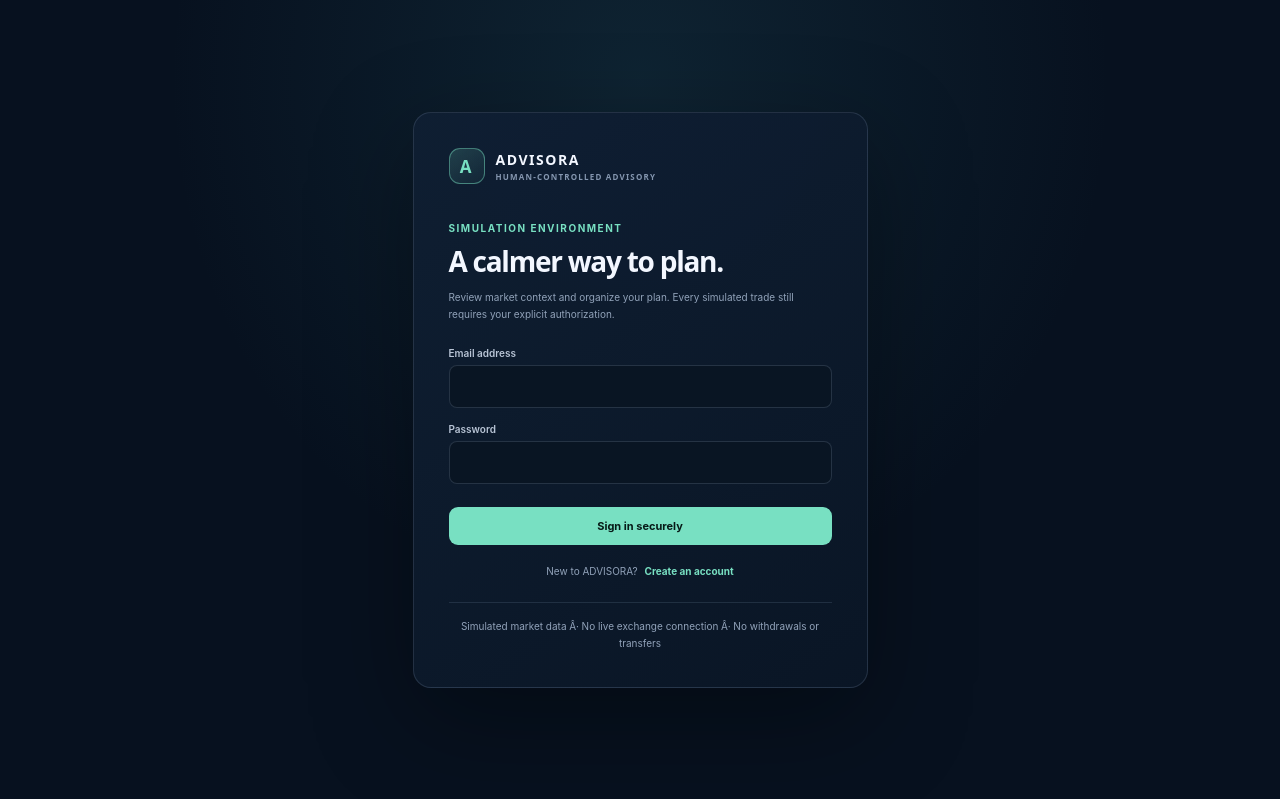
ADVISORA application shell › loads the real-data dashboard panels after authentication
Type "demo@example.test" into the field labelled "Email address" at (640, 386), box [448,365,832,408]
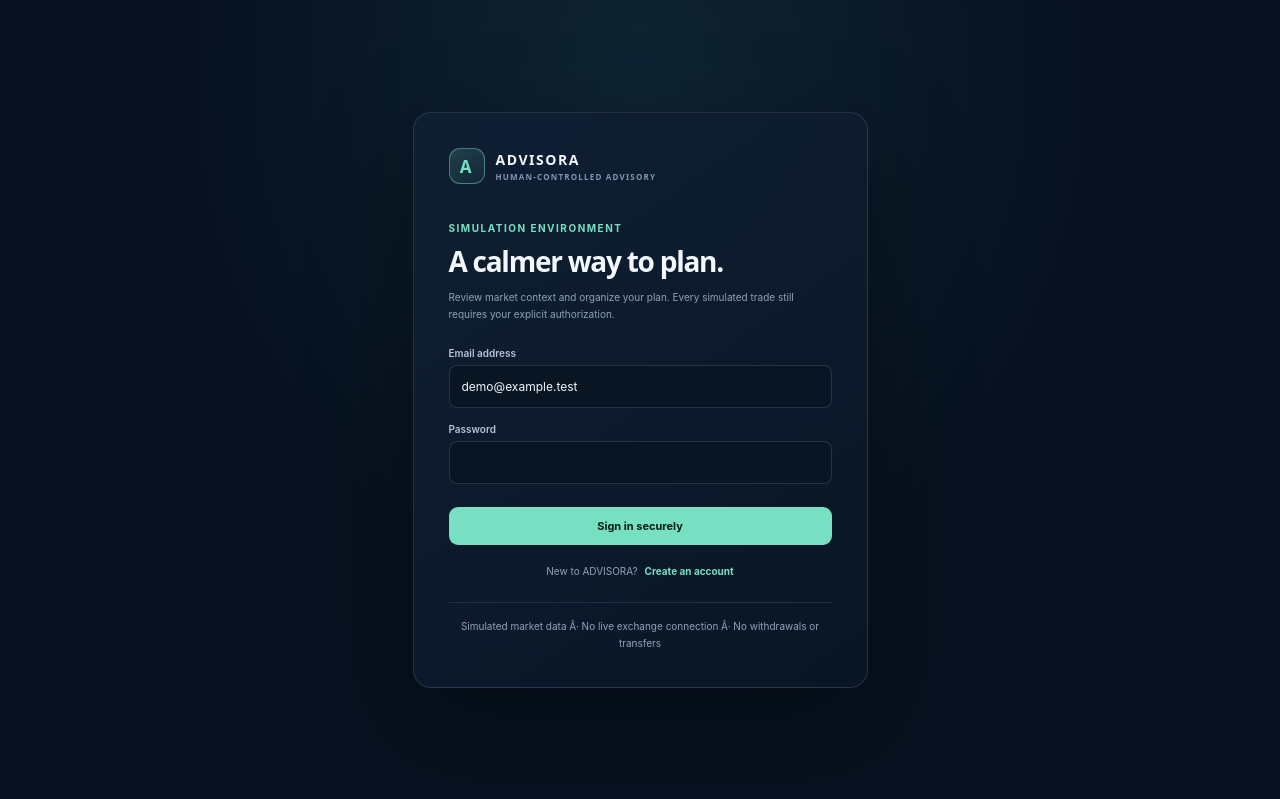
Type "password" into the password field labelled "Password" at (640, 462), box [448,441,832,484]
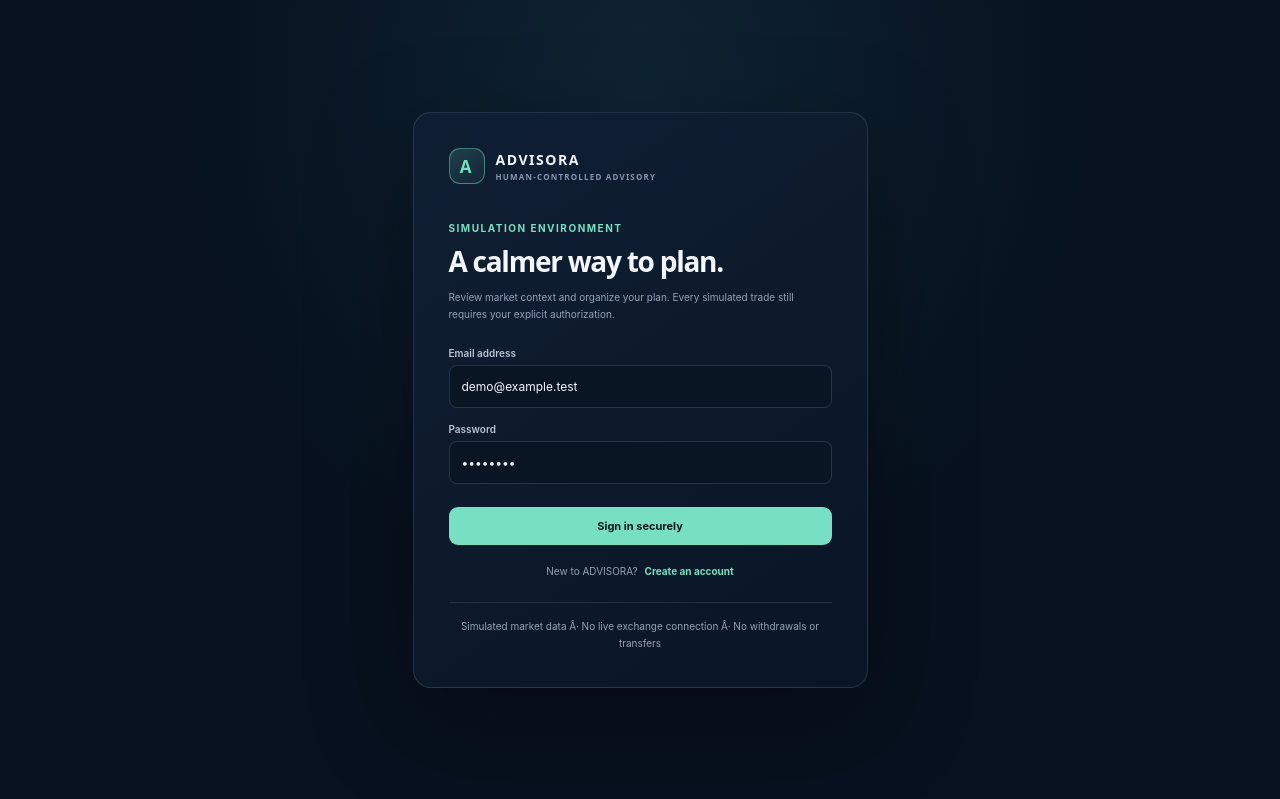
Click the button "Sign in securely" at (640, 526), box [448,507,832,545]
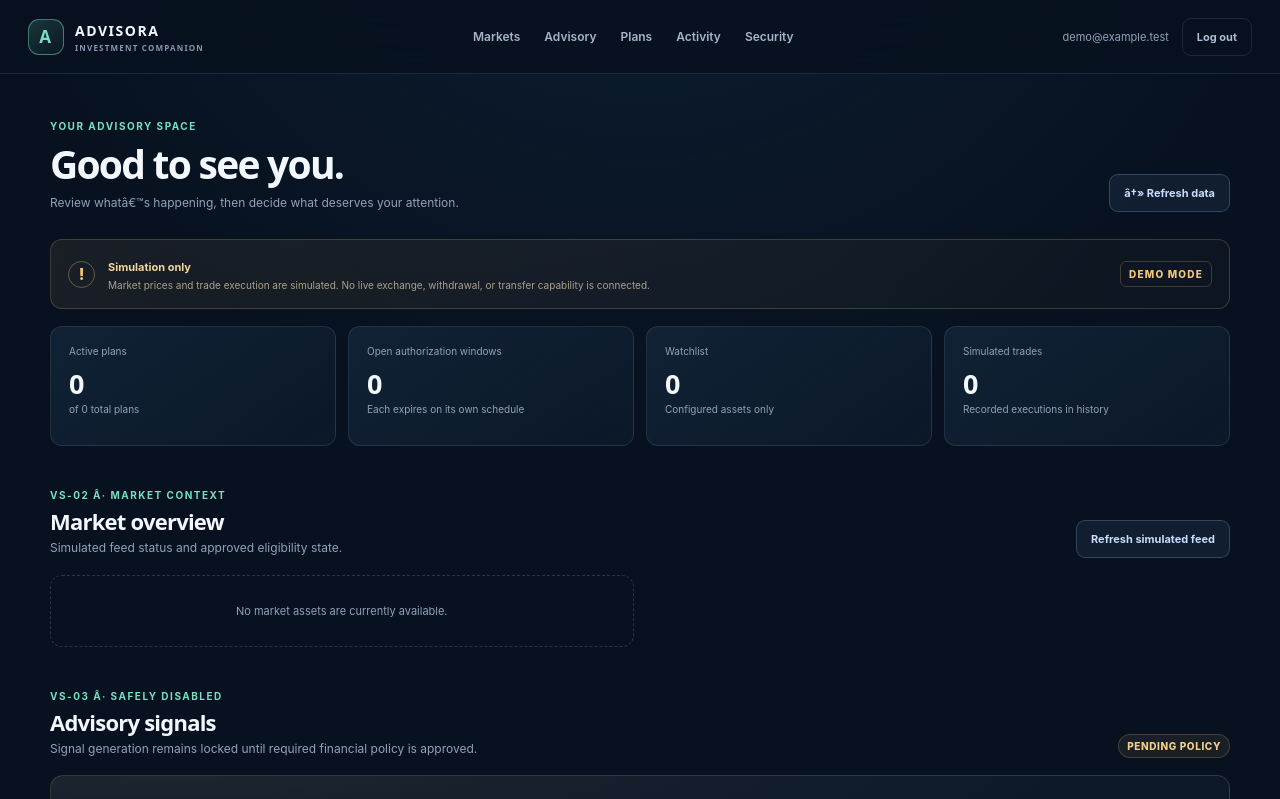
Expected: the heading "Good to see you." is shown, [50,137,343,190]
Expected: the text "PENDING POLICY" is shown, [1118,734,1230,758]
